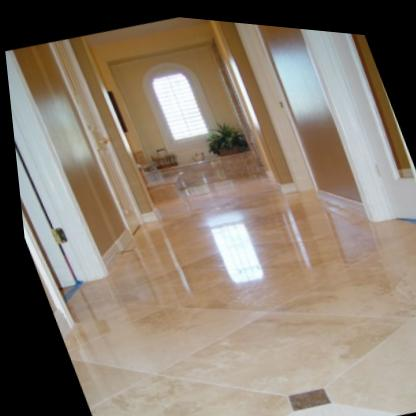Ceramic floor: (56, 162, 416, 416)
